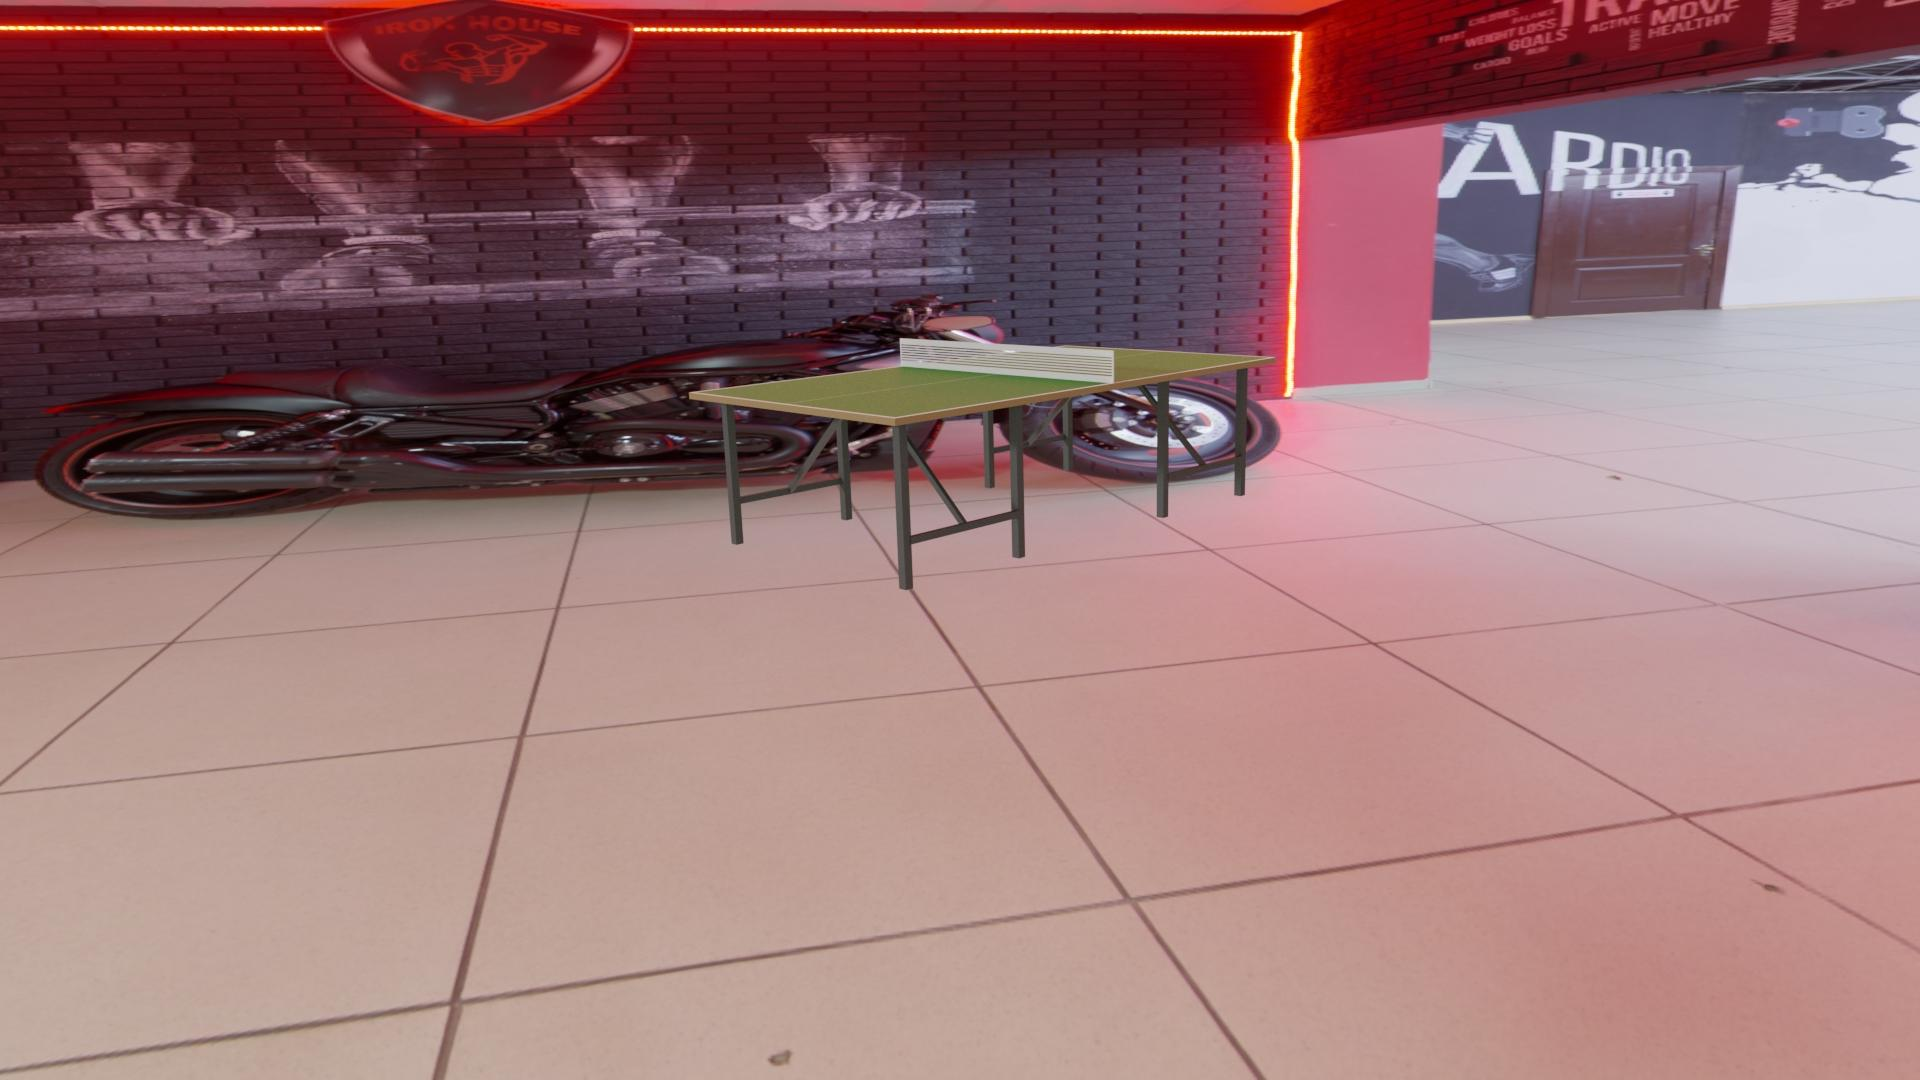table: (695, 345, 1271, 418)
